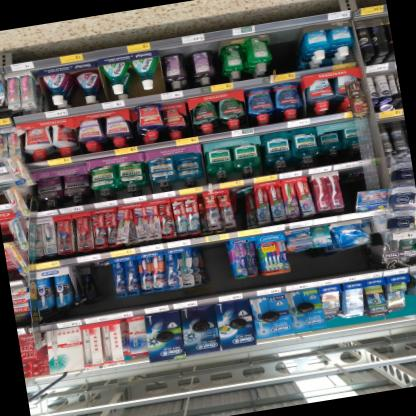empty_space: (73, 252, 114, 307), (200, 234, 234, 291), (265, 20, 298, 73)
